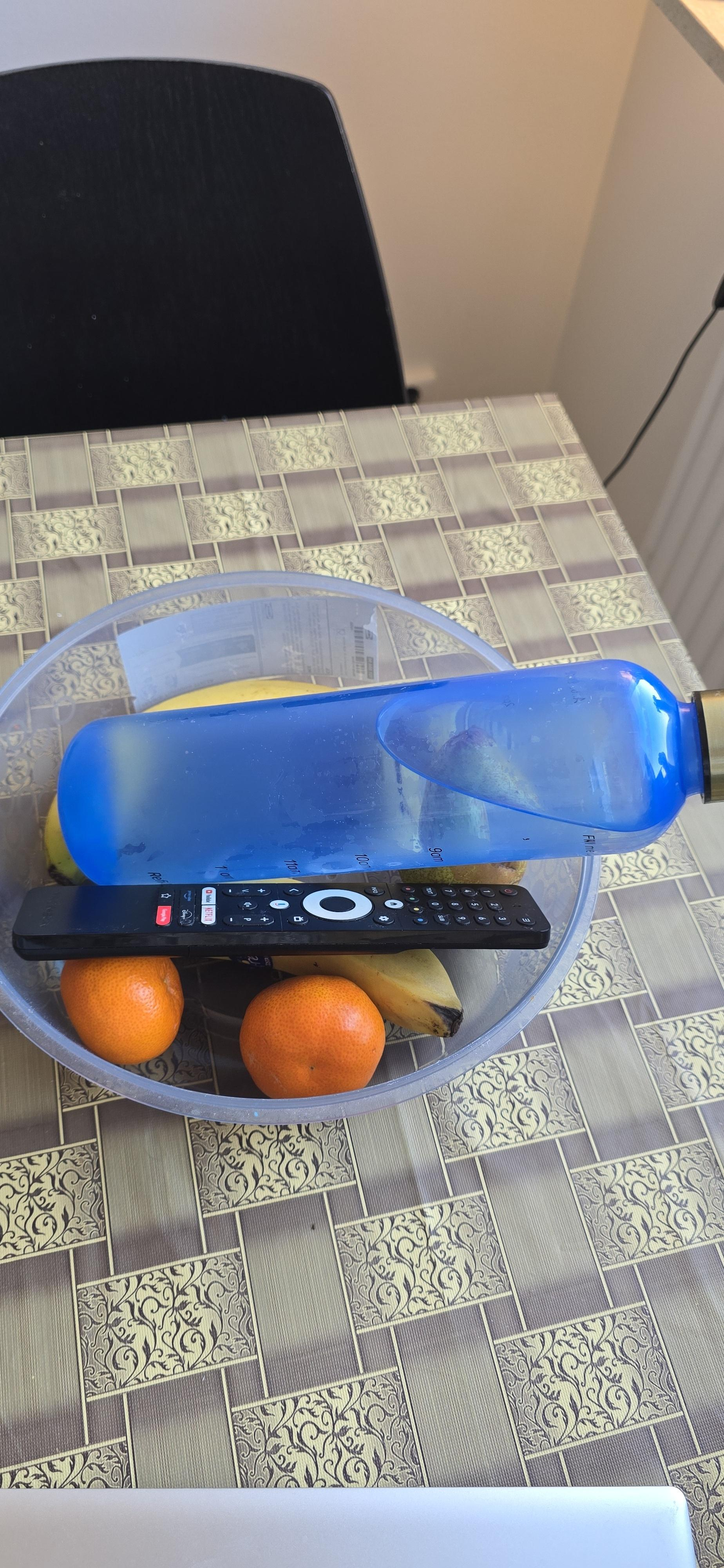bottle: (47, 662, 724, 859)
